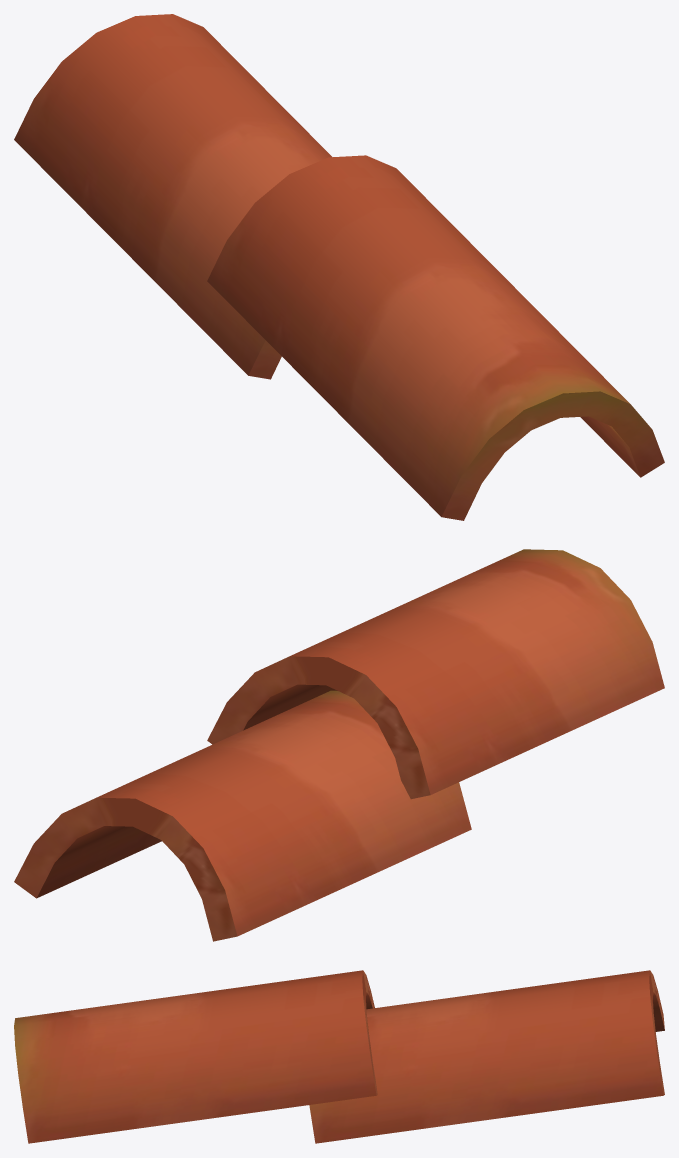
File: Roof_Modular_RoundTiles.glb
3 views of the same model, one above another, from view 1: azimuth 30°, elevation 25°; view 2: azimuth 150°, elevation 25°; view 3: azimuth 270°, elevation 25° (orthographic). The views are drawn at different scales.
Parts seen in each view (by area): view 1: Roof_Modular_RoundTiles; view 2: Roof_Modular_RoundTiles; view 3: Roof_Modular_RoundTiles.
Boxes of the visible parts, <box> form: Roof_Modular_RoundTiles: <box>14,14,664,520</box>; Roof_Modular_RoundTiles: <box>14,549,664,941</box>; Roof_Modular_RoundTiles: <box>14,970,664,1143</box>.
Bounding box in the file's own units: 0.6633 × 0.5055 × 2.25.
Materials: 1 (1 with a texture image).
